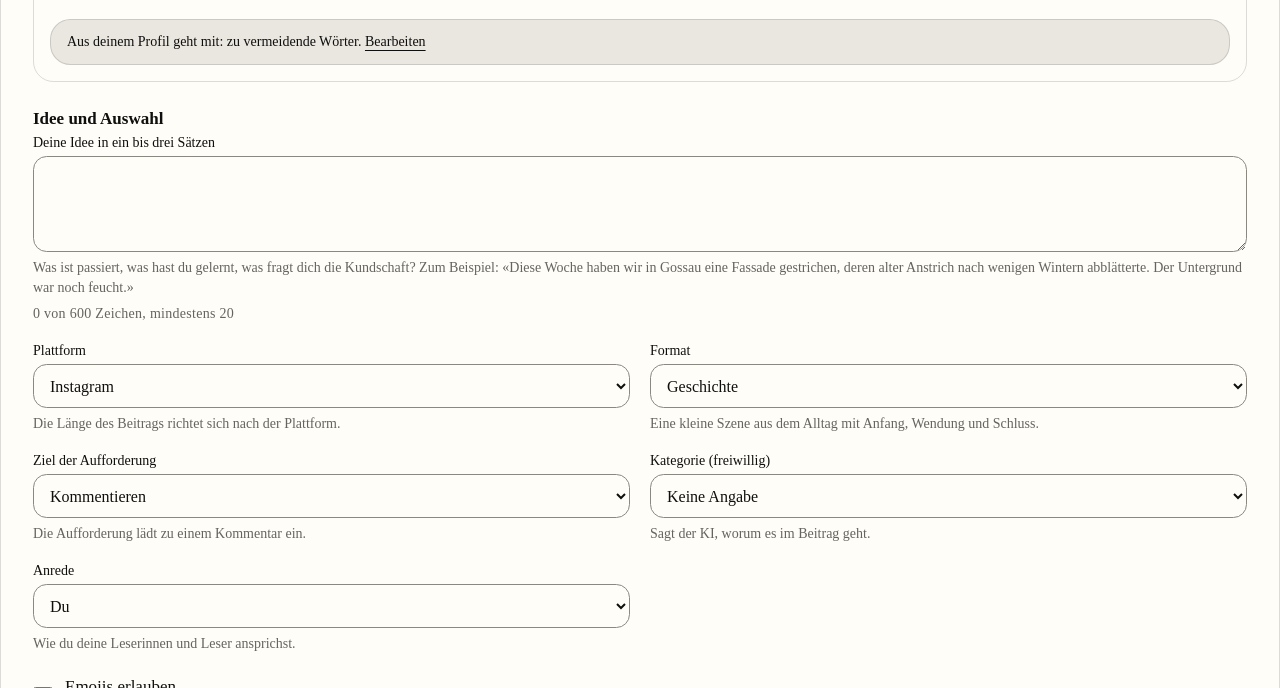
Test: Post-Generator im Browser › schreibt den Beitrag, zeigt Hook-Wahl, Vorschau und Hinweis und schickt Eingabe und Ausgabe ins CRM
(page scrolled)
Select "Fachtipp" in the dropdown labelled "Format": point(948, 386) [650,364,1247,408]
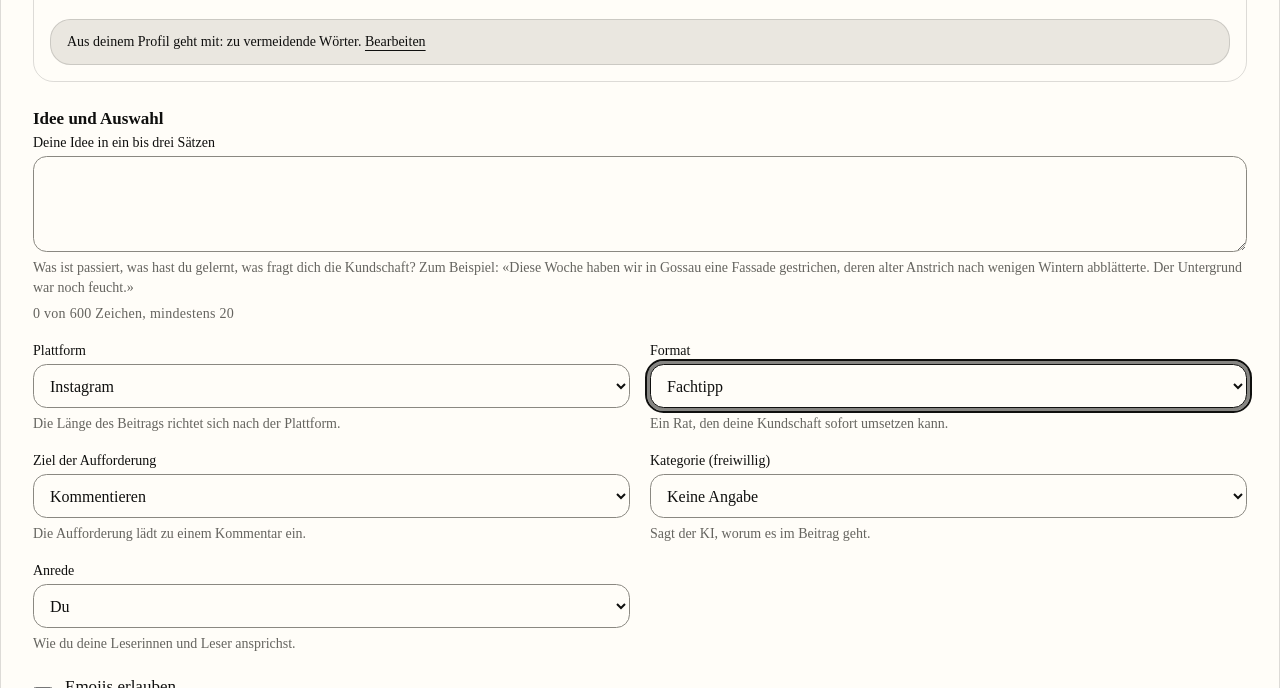
Click the text box labelled "Deine Idee in ein bis drei Sätzen": point(640, 204) [33,156,1247,252]
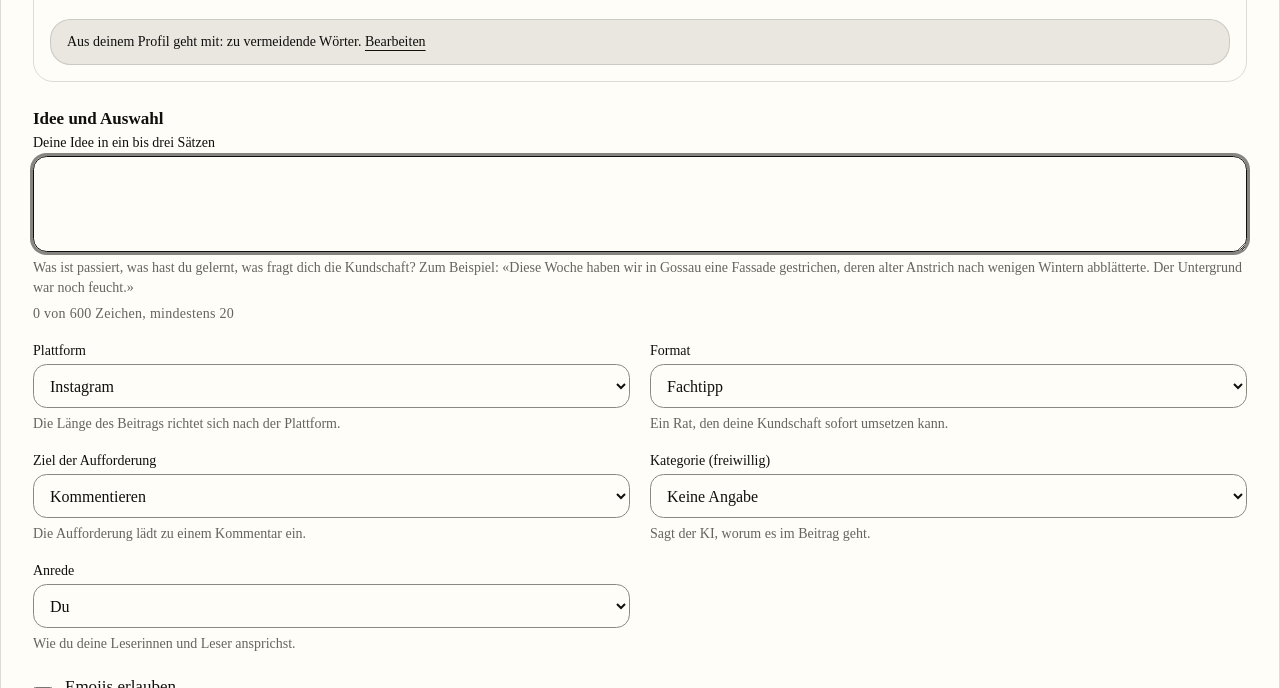
Type keys "Diese Woche haben wir in Gossau eine Fassade gestrichen, deren alter Anstrich nach wenigen Wintern abblätterte."
(page scrolled)
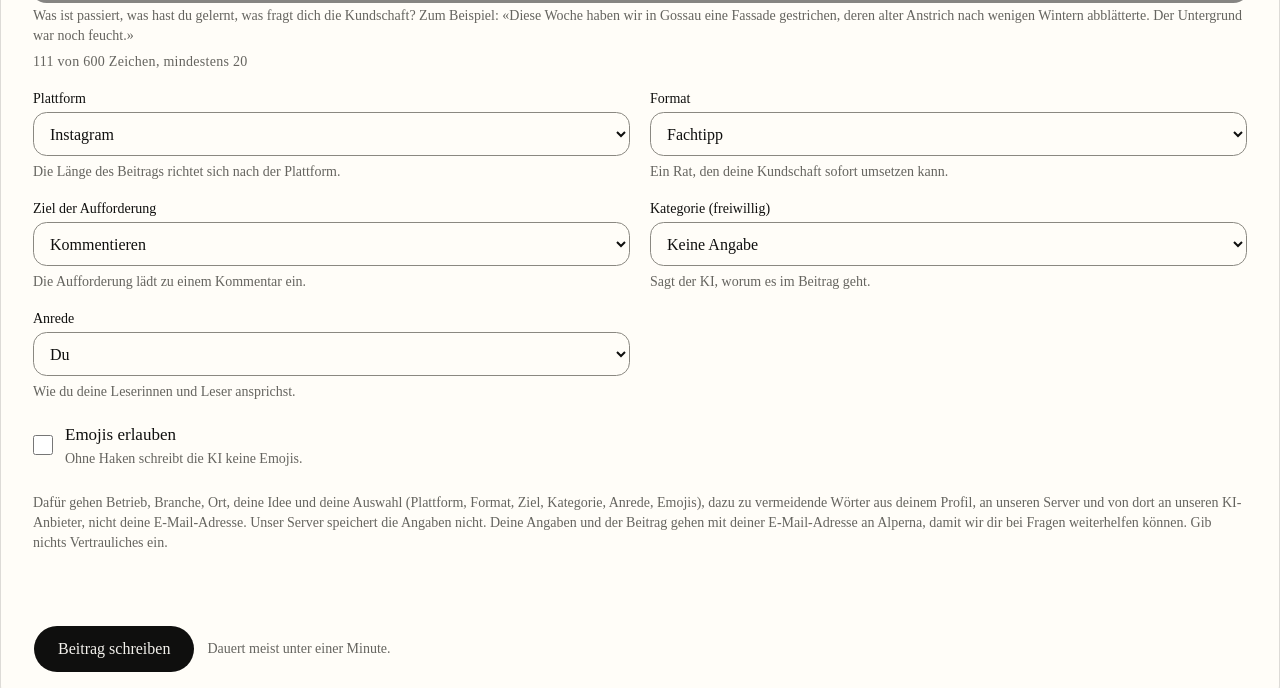
Click the button "Beitrag schreiben": point(114, 649) [33,625,195,673]
(page scrolled)
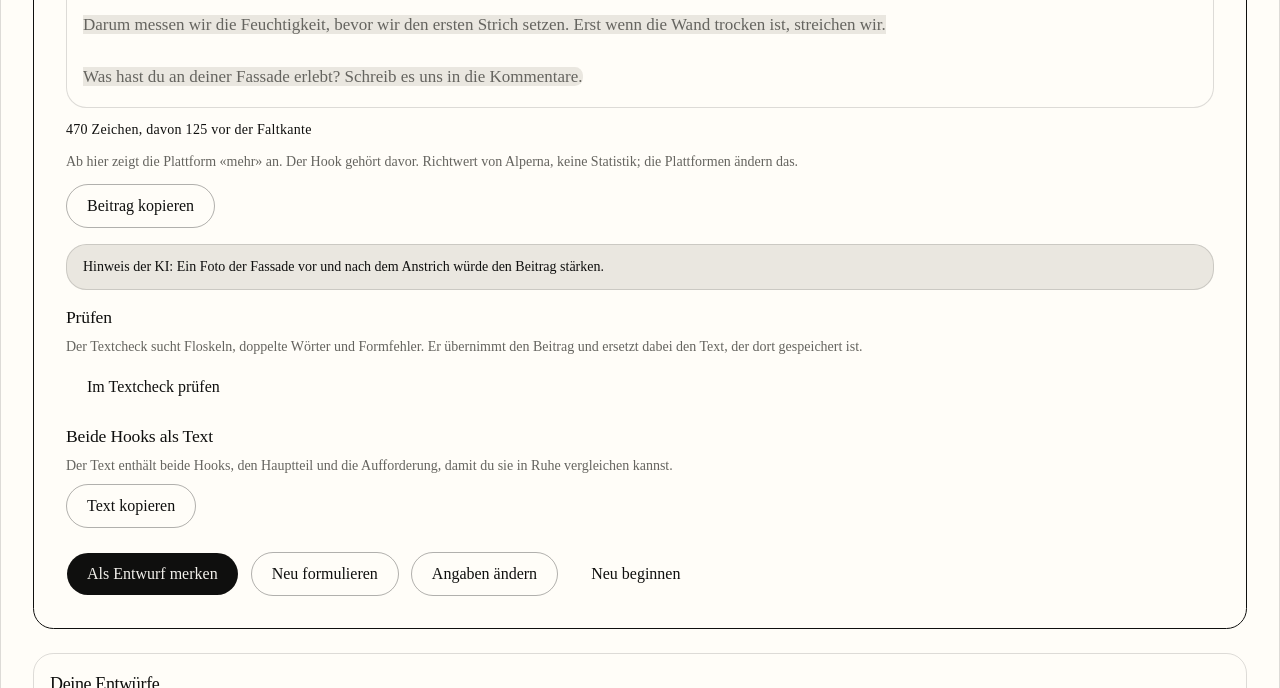
Expected: the element with test id "hinweis" shows "Hinweis der KI: Ein Foto der Fassade", [66,244,1214,290]
Expected: the text with test id "pg-counter" reads "470 Zeichen, davon 125 vor der Faltkante", [66,122,312,137]
Expected: the button "Beitrag kopieren" is shown, [66,184,215,228]
